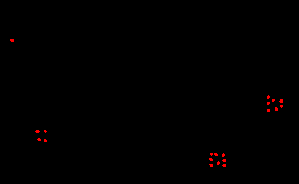Target: (279, 99, 283, 103), (35, 130, 40, 133), (10, 39, 14, 42), (267, 95, 270, 99), (275, 107, 278, 111), (37, 138, 41, 141), (214, 153, 218, 156), (222, 153, 225, 157), (209, 158, 213, 161), (222, 159, 226, 162), (217, 161, 220, 165), (209, 164, 213, 167), (222, 164, 226, 167), (272, 99, 275, 102), (267, 102, 270, 105), (280, 105, 283, 108), (267, 109, 270, 112), (44, 130, 47, 133), (44, 139, 47, 142), (210, 153, 213, 156)
